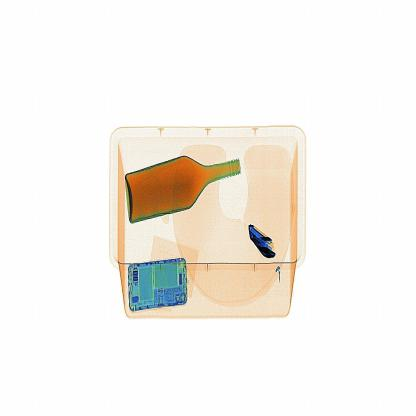pliers: (236, 220, 289, 274)
